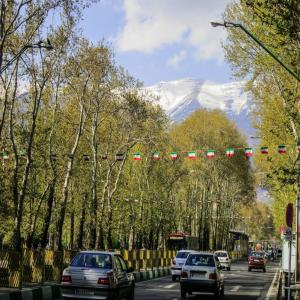Vehicle-registration-plate: (77, 290, 95, 294), (193, 273, 206, 278)
